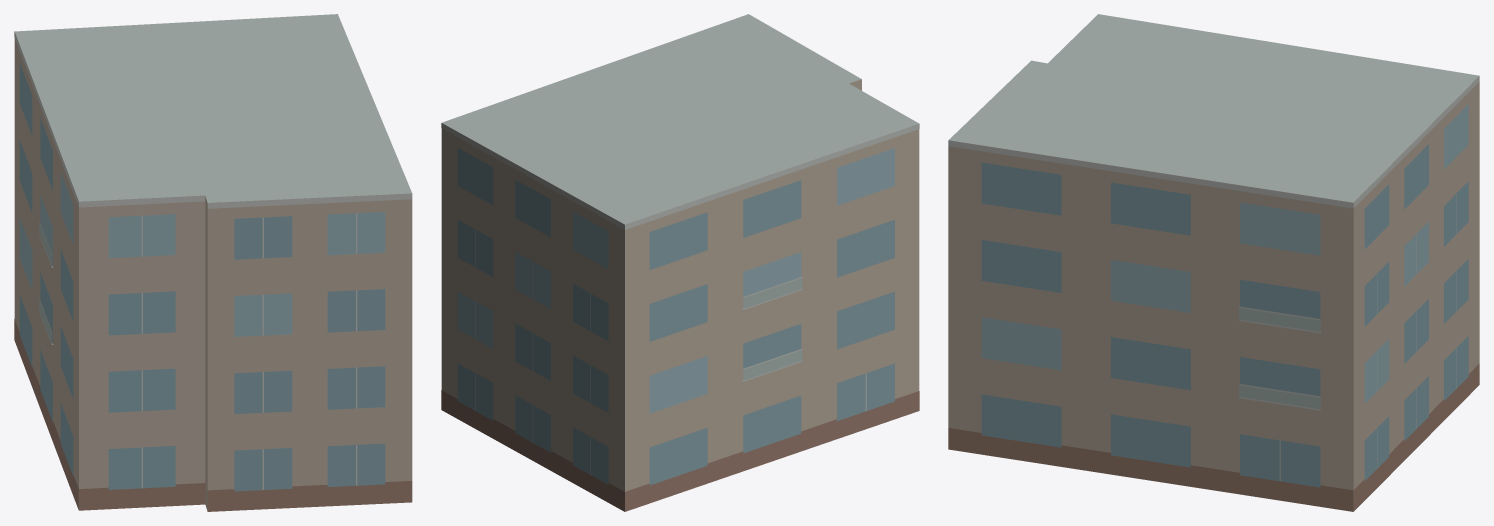
Rendered from survey-upis-32969479.glb.
The picture shows the model from 3 angles, left to right: view 1: azimuth 30°, elevation 25°; view 2: azimuth 150°, elevation 25°; view 3: azimuth 270°, elevation 25°; orthographic projection. The views are drawn at different scales.
Visible parts, largest first — view 1: survey-upis-32969479.tmp; view 2: survey-upis-32969479.tmp; view 3: survey-upis-32969479.tmp.
Boxes of the visible parts, bbox=[...] form: survey-upis-32969479.tmp: bbox=[14, 14, 412, 511]; survey-upis-32969479.tmp: bbox=[441, 14, 919, 511]; survey-upis-32969479.tmp: bbox=[948, 14, 1479, 511].
Size of the model in its own units: 16.95 by 12.94 by 20.16.
